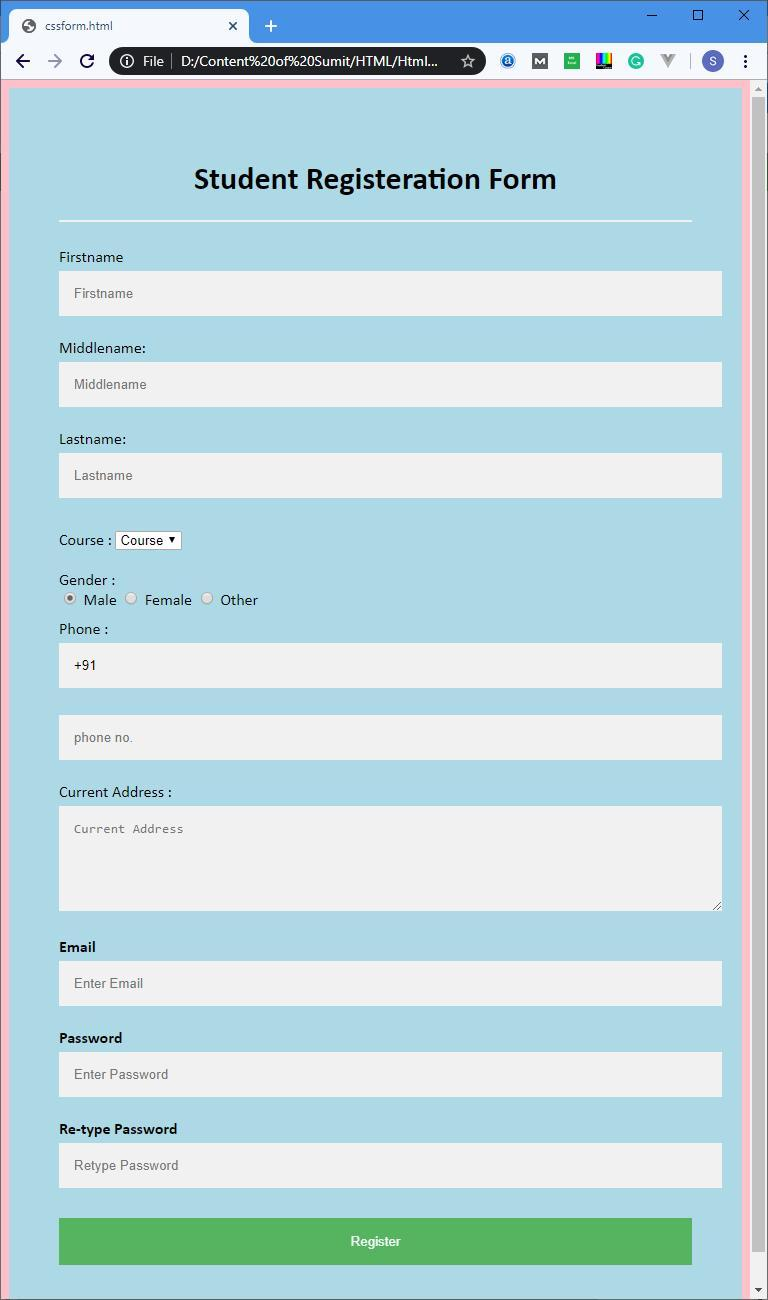button: (61, 1218, 692, 1265)
input: (61, 713, 722, 762), (61, 1052, 720, 1099), (61, 452, 725, 498), (61, 362, 724, 408), (60, 643, 722, 689), (59, 960, 721, 1006), (59, 271, 726, 314), (59, 1146, 720, 1188)
label: (183, 155, 567, 204), (57, 782, 177, 804), (54, 245, 139, 271), (59, 1123, 180, 1140), (52, 339, 153, 359), (57, 430, 135, 452), (56, 567, 122, 592), (59, 1029, 127, 1052), (119, 528, 183, 550), (56, 619, 115, 640), (52, 534, 118, 551), (54, 938, 103, 957), (145, 594, 194, 608), (221, 592, 261, 608), (86, 595, 119, 609)
radio: (62, 591, 84, 609), (197, 591, 218, 608), (122, 591, 140, 609)
